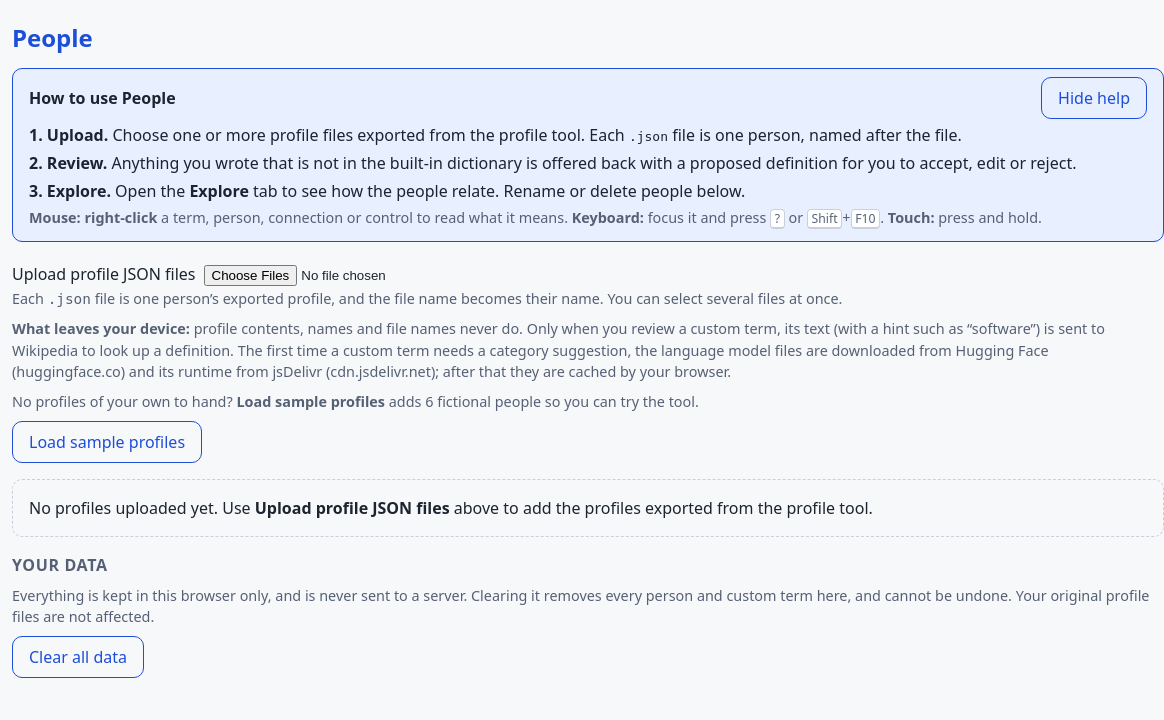
Test: Load sample profiles › uploads the six samples through the normal path, and says so
Expected: the text "adds 6 fictional people" is shown, [12,392,699,411]
Click the button "Load sample profiles". click: (107, 442)
box: [12,421,202,463]
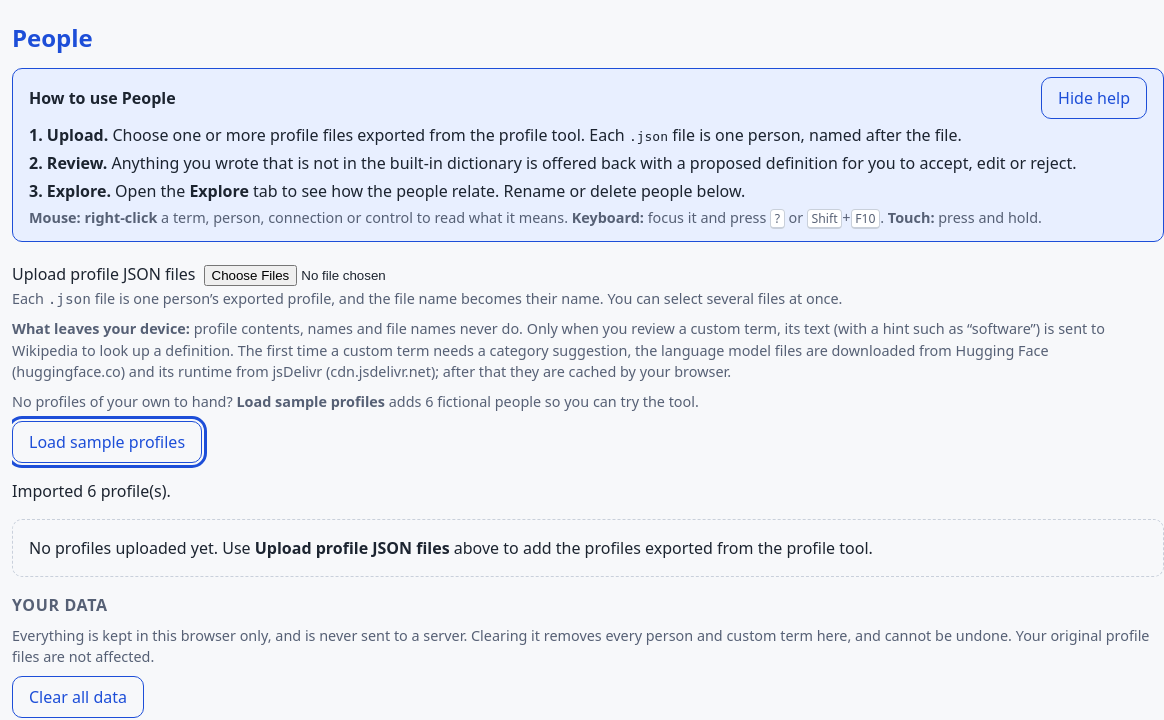
Expected: the text "Imported 6 profile(s)." is shown, [12,480,171,502]
